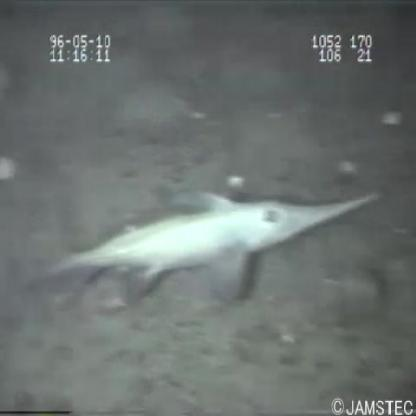Bio: (30, 181, 389, 312)
